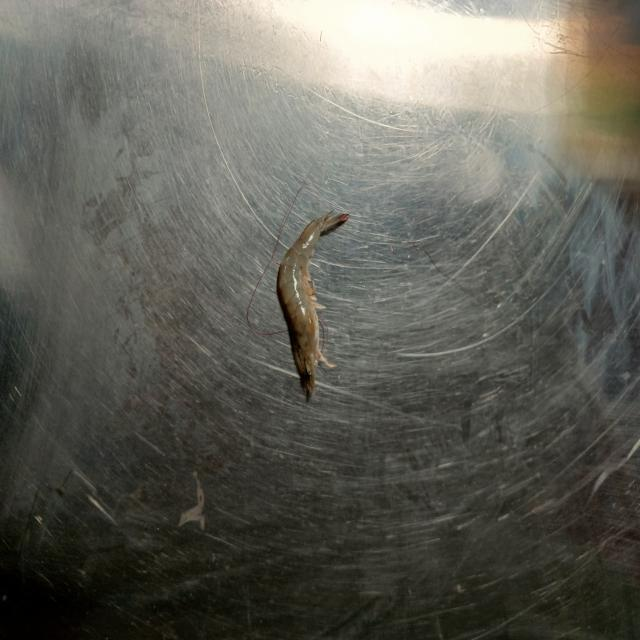shrimp: (276, 212, 349, 400)
